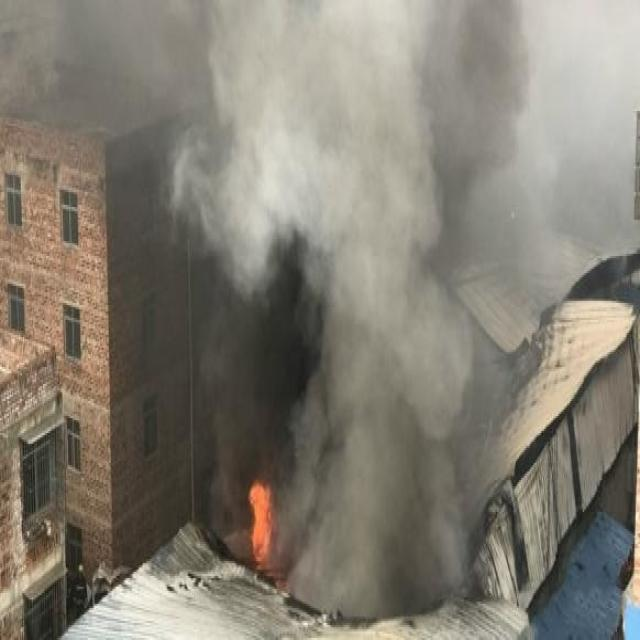Fire: (246, 480, 273, 566)
Smoke: (1, 2, 640, 619)
